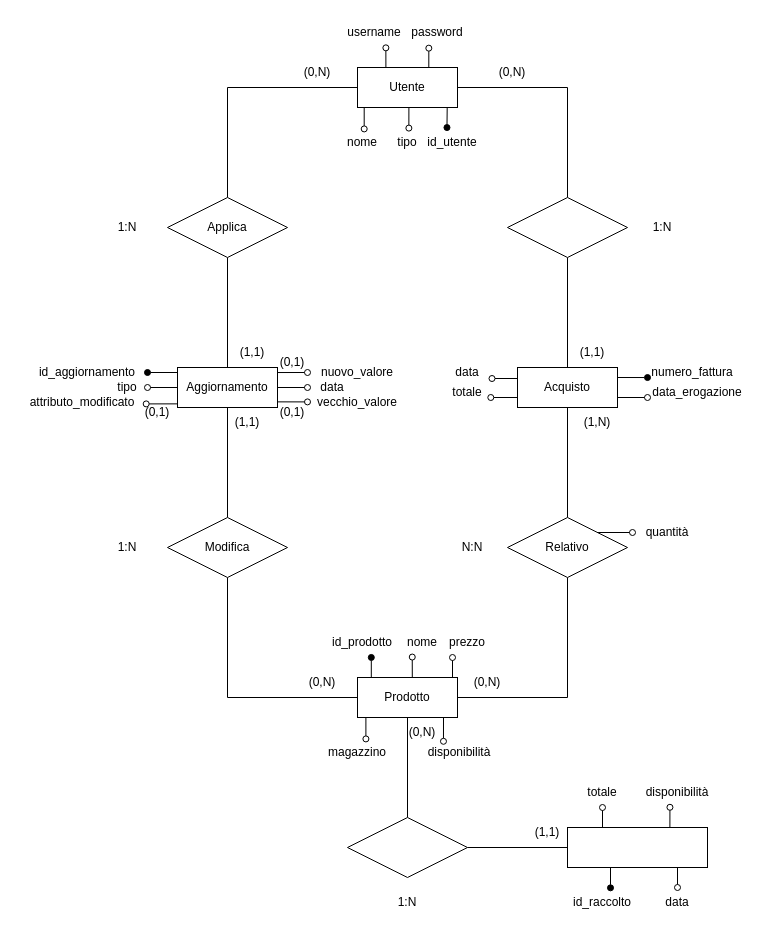
The diagram is 759 pixels wide and 934 high, and some of its shapes have lost their labels. Here are the shapes that lost their labels. From the top down, the centre of each, then its label:
At pixel 567 227: "Effettua".
At pixel 407 847: "Rifornisce".
At pixel 637 847: "ProssimoRaccolto".
